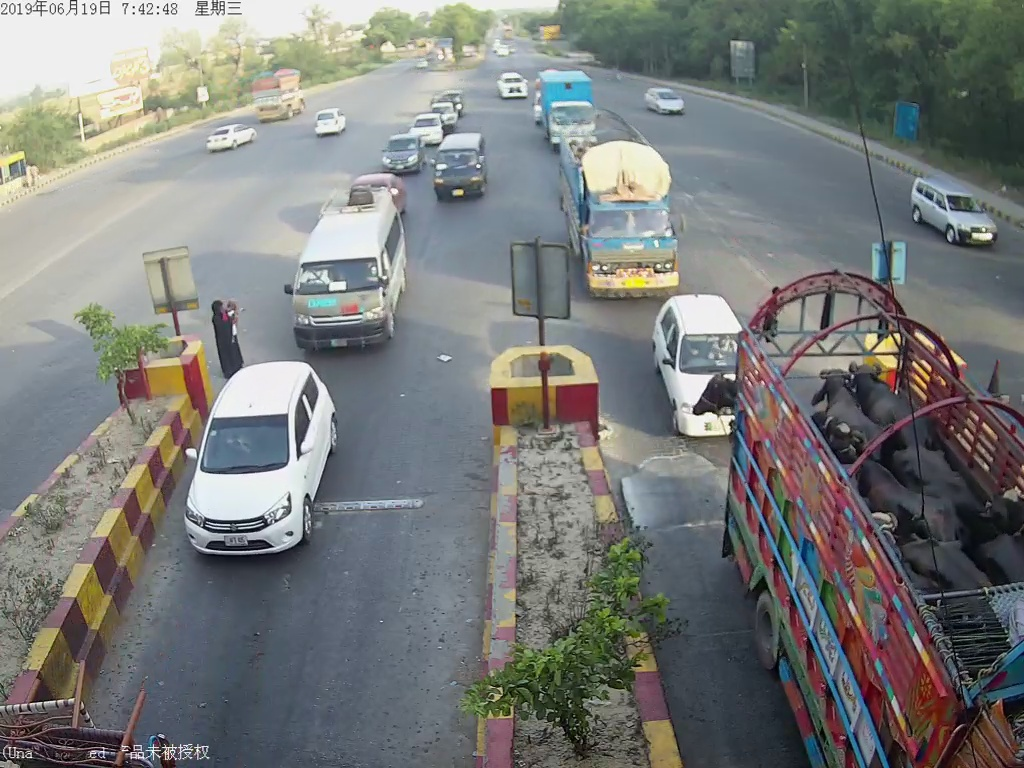Cat-1: (192, 370, 348, 566), (655, 305, 729, 446)
Cat-2: (282, 192, 411, 341), (436, 139, 484, 200)
Cat-4: (563, 119, 690, 298)
